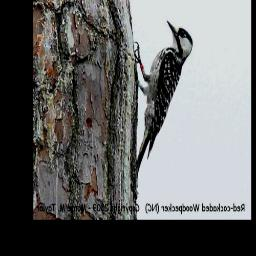Woodpecker: (132, 20, 195, 189)
